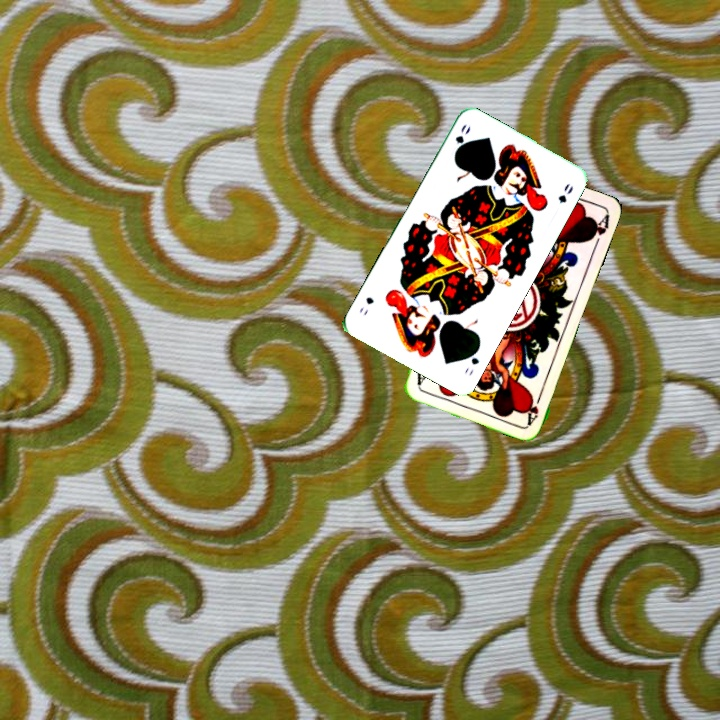GO: (450, 120, 473, 159), (460, 342, 482, 378)
HA: (523, 387, 545, 427)
